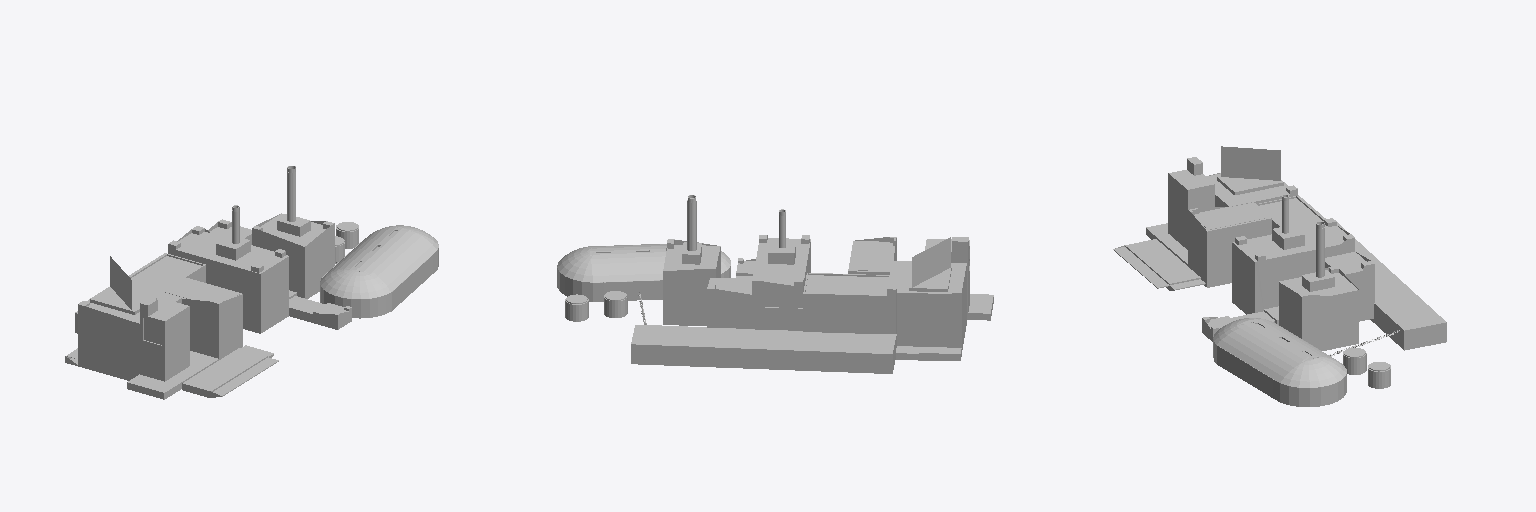
The model's file is dominoSugar_Sketch EXPORT.obj.
3 renders of one model, left to right at view 1: azimuth 30°, elevation 25°; view 2: azimuth 150°, elevation 25°; view 3: azimuth 270°, elevation 25°, orthographic.
Visible parts, largest first — view 1: Mesh866 skpA873_1 Model, Mesh870 skpA873_1 Model, Mesh875 skpA873_1 Model, Mesh871 skpA873_1 Model, Mesh872 skpA873_1 Model, Mesh868 skpA873_1 Model, Mesh867 skpA873_1 Model; view 2: Mesh869 skpA873_1 Model, Mesh866 skpA873_1 Model, Mesh870 skpA873_1 Model, Mesh875 skpA873_1 Model, Mesh868 skpA873_1 Model, Mesh871 skpA873_1 Model, Mesh867 skpA873_1 Model, Mesh873 skpA873_1 Model, Mesh874 skpA873_1 Model; view 3: Mesh866 skpA873_1 Model, Mesh870 skpA873_1 Model, Mesh875 skpA873_1 Model, Mesh871 skpA873_1 Model, Mesh869 skpA873_1 Model, Mesh872 skpA873_1 Model, Mesh867 skpA873_1 Model, Mesh868 skpA873_1 Model, Mesh874 skpA873_1 Model, Mesh873 skpA873_1 Model.
Boxes of the visible parts, box(x1,y1,x2,y2) form: Mesh866 skpA873_1 Model: box(65, 277, 242, 399); Mesh870 skpA873_1 Model: box(168, 205, 351, 333); Mesh875 skpA873_1 Model: box(320, 225, 438, 318); Mesh871 skpA873_1 Model: box(252, 166, 334, 298); Mesh872 skpA873_1 Model: box(182, 345, 278, 397); Mesh868 skpA873_1 Model: box(129, 253, 205, 290); Mesh867 skpA873_1 Model: box(110, 256, 131, 309); Mesh869 skpA873_1 Model: box(631, 325, 896, 373); Mesh866 skpA873_1 Model: box(848, 237, 993, 360); Mesh870 skpA873_1 Model: box(707, 209, 810, 330); Mesh875 skpA873_1 Model: box(557, 242, 730, 301); Mesh868 skpA873_1 Model: box(803, 273, 889, 333); Mesh871 skpA873_1 Model: box(663, 195, 720, 325); Mesh867 skpA873_1 Model: box(912, 237, 950, 287); Mesh873 skpA873_1 Model: box(604, 291, 627, 317); Mesh874 skpA873_1 Model: box(565, 294, 588, 321); Mesh866 skpA873_1 Model: box(1146, 157, 1297, 287); Mesh870 skpA873_1 Model: box(1202, 195, 1374, 341); Mesh875 skpA873_1 Model: box(1213, 318, 1346, 406); Mesh871 skpA873_1 Model: box(1279, 221, 1358, 350); Mesh869 skpA873_1 Model: box(1337, 222, 1446, 350); Mesh872 skpA873_1 Model: box(1113, 239, 1205, 290); Mesh867 skpA873_1 Model: box(1221, 146, 1280, 180); Mesh868 skpA873_1 Model: box(1257, 195, 1325, 228); Mesh874 skpA873_1 Model: box(1368, 362, 1390, 388); Mesh873 skpA873_1 Model: box(1343, 348, 1366, 374).
Size of the model in its own units: 296 by 88.62 by 223.